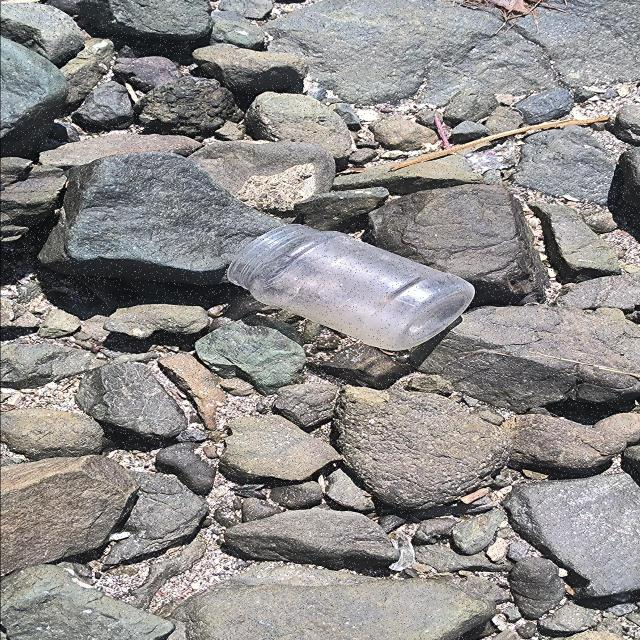plastic_waste: (228, 224, 479, 352)
